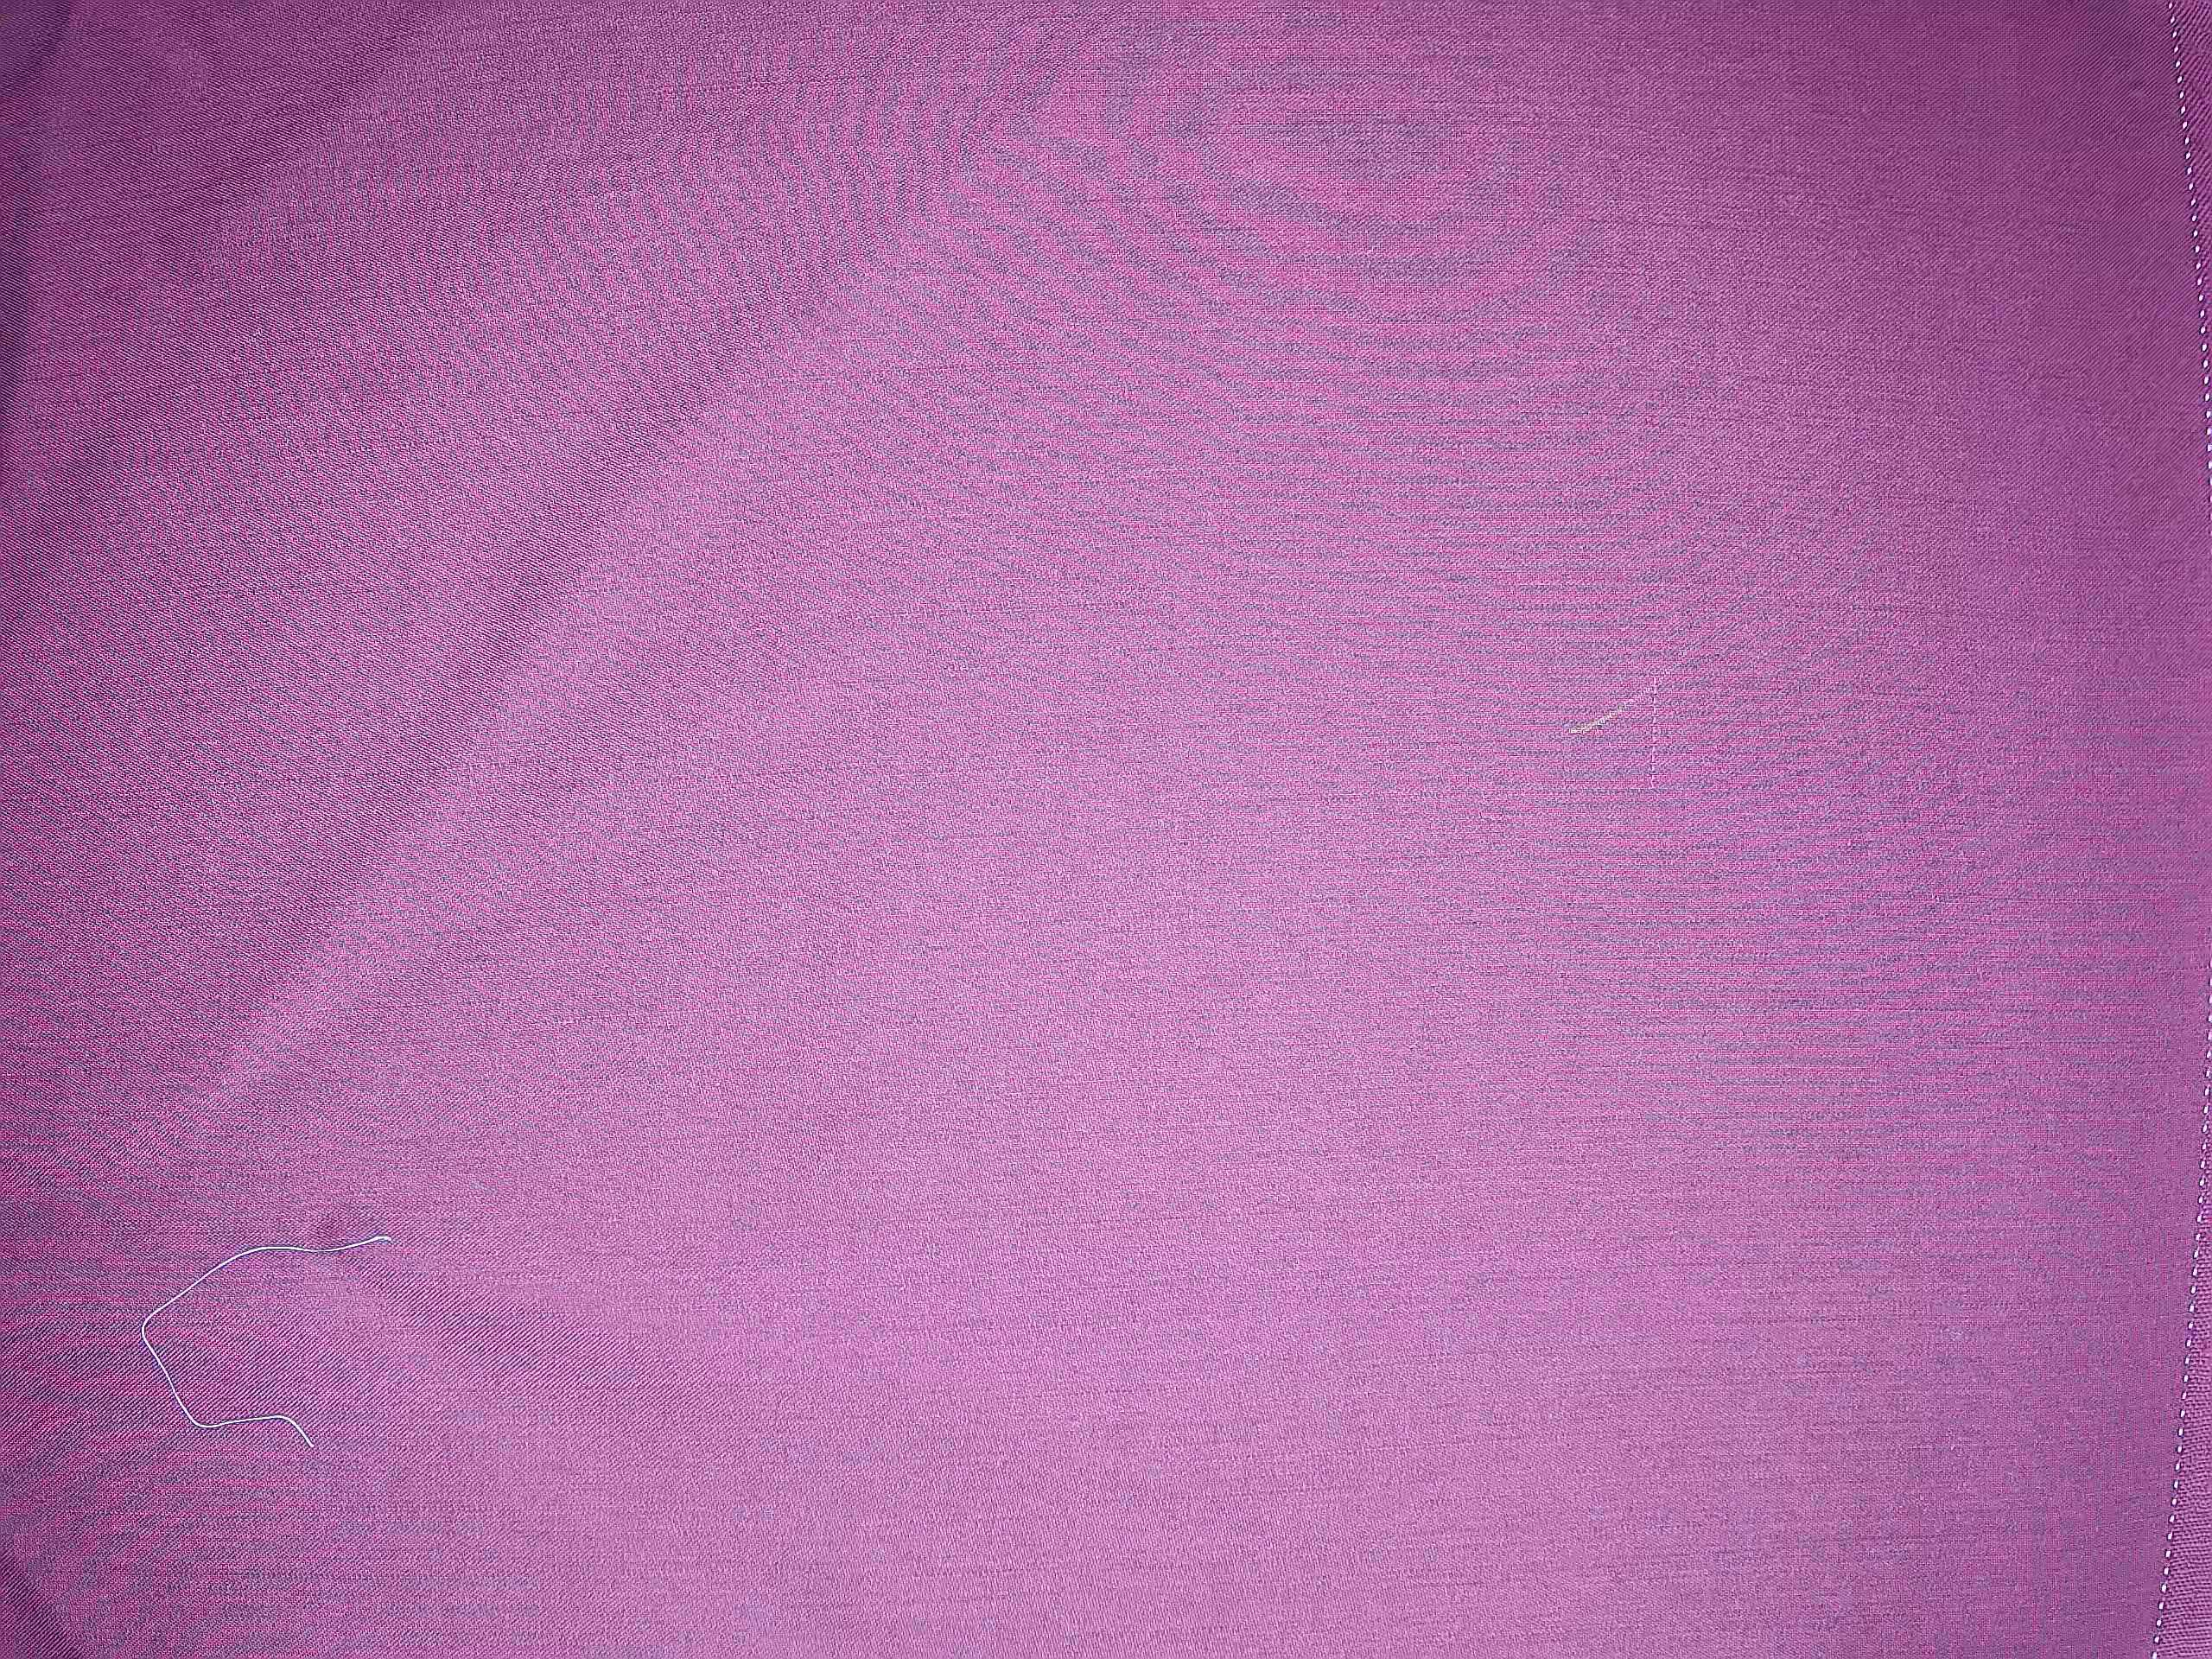jumps: (1623, 659, 1683, 829)
